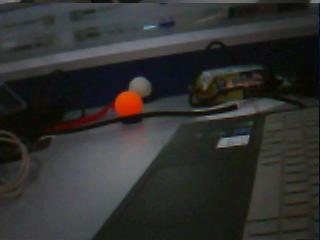oball: (114, 92, 143, 116)
